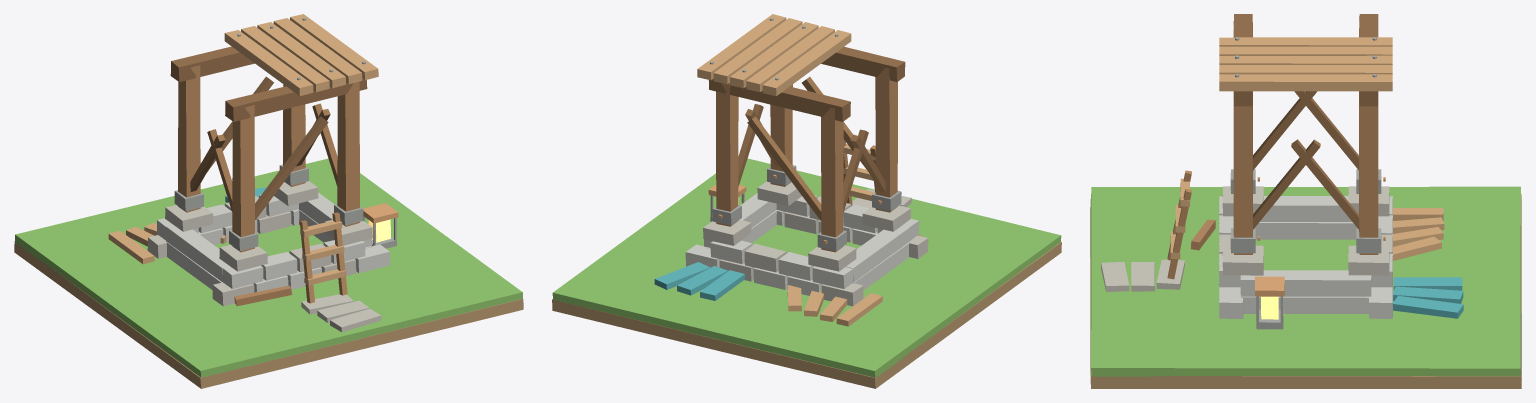
Rendered from tower_l01_damaged_LOD2.glb.
The picture shows the model from 3 angles, left to right: view 1: azimuth 30°, elevation 25°; view 2: azimuth 150°, elevation 25°; view 3: azimuth 270°, elevation 25°; orthographic projection. The views are drawn at different scales.
Visible parts, largest first — view 1: tower_l01_grass_tile_tower_l01_damaged_LOD2_tmp, tower_l01_earth_tile_tower_l01_damaged_LOD2_tmp, upright_0.58_-0.52_tower_l01_damaged_LOD2_tmp, upright_-0.58_-0.52_tower_l01_damaged_LOD2_tmp, upright_-0.58_0.52_tower_l01_damaged_LOD2_tmp, deck_bearer_-0.52_tower_l01_damaged_LOD2_tmp, deck_board_4_tower_l01_damaged_LOD2_tmp, deck_bearer_0.52_tower_l01_damaged_LOD2_tmp, plinth_return_1_-0.73_tower_l01_damaged_LOD2_tmp, deck_board_5_tower_l01_damaged_LOD2_tmp, deck_board_7_tower_l01_damaged_LOD2_tmp, deck_board_8_tower_l01_damaged_LOD2_tmp (+30 smaller); view 2: tower_l01_grass_tile_tower_l01_damaged_LOD2_tmp, tower_l01_earth_tile_tower_l01_damaged_LOD2_tmp, upright_-0.58_0.52_tower_l01_damaged_LOD2_tmp, upright_0.58_0.52_tower_l01_damaged_LOD2_tmp, upright_-0.58_-0.52_tower_l01_damaged_LOD2_tmp, deck_bearer_0.52_tower_l01_damaged_LOD2_tmp, deck_board_4_tower_l01_damaged_LOD2_tmp, plinth_return_1_-0.73_tower_l01_damaged_LOD2_tmp, deck_bearer_-0.52_tower_l01_damaged_LOD2_tmp, deck_board_5_tower_l01_damaged_LOD2_tmp, deck_board_7_tower_l01_damaged_LOD2_tmp, deck_board_8_tower_l01_damaged_LOD2_tmp (+27 smaller); view 3: tower_l01_grass_tile_tower_l01_damaged_LOD2_tmp, tower_l01_earth_tile_tower_l01_damaged_LOD2_tmp, deck_board_8_tower_l01_damaged_LOD2_tmp, plinth_return_1_0.73_tower_l01_damaged_LOD2_tmp, upright_0.58_-0.52_tower_l01_damaged_LOD2_tmp, upright_0.58_0.52_tower_l01_damaged_LOD2_tmp, plinth_return_1_-0.73_tower_l01_damaged_LOD2_tmp, plinth_return_0_0.73_tower_l01_damaged_LOD2_tmp, plinth_return_0_-0.73_tower_l01_damaged_LOD2_tmp, deck_board_5_tower_l01_damaged_LOD2_tmp, deck_board_7_tower_l01_damaged_LOD2_tmp, deck_board_4_tower_l01_damaged_LOD2_tmp (+31 smaller).
Part boxes in pixels (x1,y1,x2,y2): tower_l01_grass_tile_tower_l01_damaged_LOD2_tmp: [15, 158, 522, 377]; tower_l01_earth_tile_tower_l01_damaged_LOD2_tmp: [14, 241, 523, 388]; upright_0.58_-0.52_tower_l01_damaged_LOD2_tmp: [337, 81, 359, 226]; upright_-0.58_-0.52_tower_l01_damaged_LOD2_tmp: [232, 105, 254, 252]; upright_-0.58_0.52_tower_l01_damaged_LOD2_tmp: [178, 65, 200, 212]; deck_bearer_-0.52_tower_l01_damaged_LOD2_tmp: [225, 78, 367, 121]; deck_board_4_tower_l01_damaged_LOD2_tmp: [224, 30, 313, 95]; deck_bearer_0.52_tower_l01_damaged_LOD2_tmp: [170, 46, 254, 81]; plinth_return_1_-0.73_tower_l01_damaged_LOD2_tmp: [166, 225, 229, 282]; deck_board_5_tower_l01_damaged_LOD2_tmp: [241, 26, 329, 92]; deck_board_7_tower_l01_damaged_LOD2_tmp: [273, 18, 362, 83]; deck_board_8_tower_l01_damaged_LOD2_tmp: [290, 14, 378, 80]; tower_l01_grass_tile_tower_l01_damaged_LOD2_tmp: [552, 158, 1061, 377]; tower_l01_earth_tile_tower_l01_damaged_LOD2_tmp: [552, 242, 1061, 388]; upright_-0.58_0.52_tower_l01_damaged_LOD2_tmp: [821, 108, 843, 252]; upright_0.58_0.52_tower_l01_damaged_LOD2_tmp: [716, 83, 738, 226]; upright_-0.58_-0.52_tower_l01_damaged_LOD2_tmp: [875, 68, 897, 212]; deck_bearer_0.52_tower_l01_damaged_LOD2_tmp: [708, 79, 850, 121]; deck_board_4_tower_l01_damaged_LOD2_tmp: [762, 30, 851, 96]; plinth_return_1_-0.73_tower_l01_damaged_LOD2_tmp: [846, 225, 909, 282]; deck_bearer_-0.52_tower_l01_damaged_LOD2_tmp: [821, 46, 905, 81]; deck_board_5_tower_l01_damaged_LOD2_tmp: [746, 26, 834, 92]; deck_board_7_tower_l01_damaged_LOD2_tmp: [713, 18, 802, 84]; deck_board_8_tower_l01_damaged_LOD2_tmp: [697, 14, 786, 80]; tower_l01_grass_tile_tower_l01_damaged_LOD2_tmp: [1091, 186, 1520, 376]; tower_l01_earth_tile_tower_l01_damaged_LOD2_tmp: [1090, 194, 1521, 388]; deck_board_8_tower_l01_damaged_LOD2_tmp: [1219, 74, 1392, 91]; plinth_return_1_0.73_tower_l01_damaged_LOD2_tmp: [1240, 270, 1371, 296]; upright_0.58_-0.52_tower_l01_damaged_LOD2_tmp: [1233, 91, 1252, 254]; upright_0.58_0.52_tower_l01_damaged_LOD2_tmp: [1359, 91, 1378, 254]; plinth_return_1_-0.73_tower_l01_damaged_LOD2_tmp: [1260, 196, 1351, 221]; plinth_return_0_0.73_tower_l01_damaged_LOD2_tmp: [1240, 295, 1370, 313]; plinth_return_0_-0.73_tower_l01_damaged_LOD2_tmp: [1255, 222, 1357, 239]; deck_board_5_tower_l01_damaged_LOD2_tmp: [1219, 46, 1392, 55]; deck_board_7_tower_l01_damaged_LOD2_tmp: [1219, 65, 1392, 74]; deck_board_4_tower_l01_damaged_LOD2_tmp: [1219, 37, 1392, 46].
Size of the model in its own units: 3.57 by 2.38 by 3.57.
